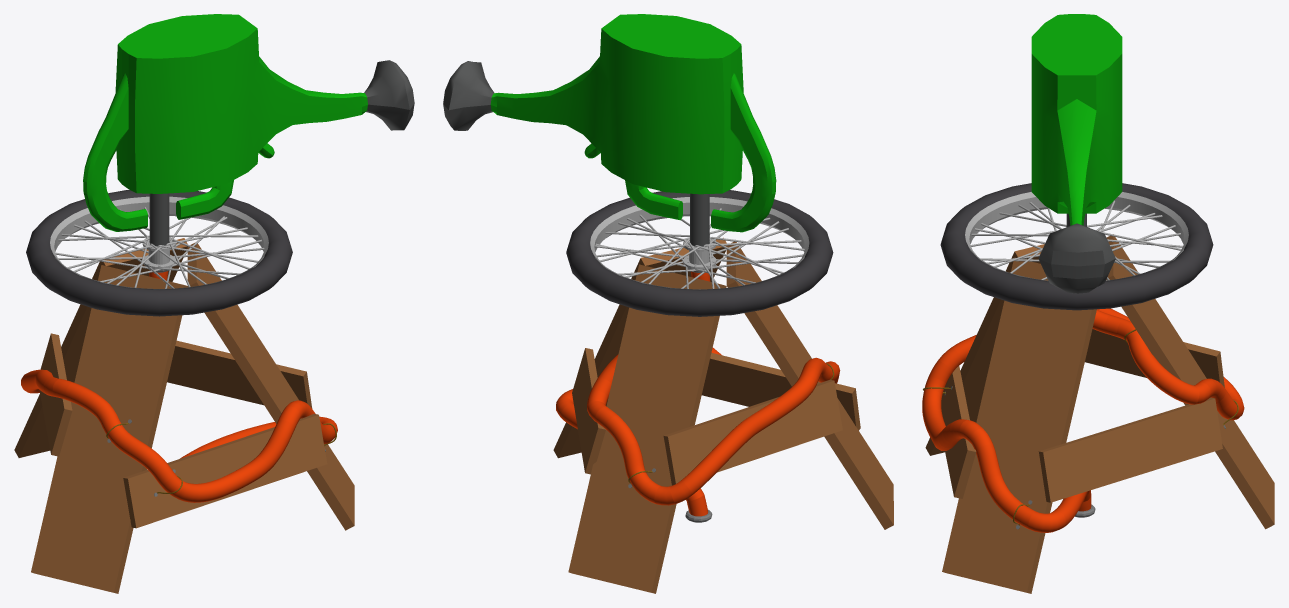
The model's file is Water_smooth.fbx.
3 views of the same model, side by side, from view 1: azimuth 30°, elevation 25°; view 2: azimuth 150°, elevation 25°; view 3: azimuth 270°, elevation 25° (orthographic). The views are drawn at different scales.
Parts seen in each view (by area): view 1: WateringCan, Foothold1, Wheel, Hosepipe, Sideplank1, Foothold3, Sideplank3, Foothold2, WheelRim, Sideplank2, SpikesTop1, SpikesTop2 (+3 smaller); view 2: WateringCan, Foothold2, Wheel, Hosepipe, Sideplank2, Foothold1, Sideplank1, WheelRim, Foothold3, Sideplank3, SpikesTop1, SpikesTop2 (+2 smaller); view 3: Foothold3, WateringCan, Wheel, Hosepipe, Sideplank3, Foothold2, WheelRim, Foothold1, Sideplank2, Sideplank1, SpikesTop1, SpikesTop2 (+2 smaller).
Part boxes in pixels (bbox=[...]): WateringCan: bbox=[83, 14, 414, 246]; Foothold1: bbox=[31, 265, 188, 593]; Wheel: bbox=[26, 190, 292, 316]; Hosepipe: bbox=[21, 271, 337, 502]; Sideplank1: bbox=[123, 413, 327, 528]; Foothold3: bbox=[187, 242, 354, 530]; Sideplank3: bbox=[167, 340, 312, 408]; Foothold2: bbox=[14, 238, 187, 457]; WheelRim: bbox=[50, 196, 268, 289]; Sideplank2: bbox=[39, 333, 72, 456]; SpikesTop1: bbox=[61, 209, 258, 287]; SpikesTop2: bbox=[58, 221, 258, 287]; WateringCan: bbox=[443, 14, 776, 246]; Foothold2: bbox=[568, 264, 726, 593]; Wheel: bbox=[566, 190, 833, 316]; Hosepipe: bbox=[556, 271, 840, 516]; Sideplank2: bbox=[663, 379, 842, 485]; Foothold1: bbox=[726, 241, 893, 529]; Sideplank1: bbox=[702, 352, 860, 430]; WheelRim: bbox=[590, 197, 809, 289]; Foothold3: bbox=[553, 237, 726, 458]; Sideplank3: bbox=[572, 348, 605, 474]; SpikesTop1: bbox=[596, 217, 804, 288]; SpikesTop2: bbox=[600, 219, 801, 288]; Foothold3: bbox=[942, 257, 1096, 593]; WateringCan: bbox=[1031, 14, 1122, 293]; Wheel: bbox=[940, 183, 1213, 310]; Hosepipe: bbox=[922, 308, 1244, 532]; Sideplank3: bbox=[1038, 397, 1222, 502]; Foothold2: bbox=[1106, 234, 1274, 529]; WheelRim: bbox=[965, 192, 1188, 281]; Foothold1: bbox=[925, 244, 1044, 455]; Sideplank2: bbox=[1085, 329, 1224, 387]; Sideplank1: bbox=[941, 366, 976, 498]; SpikesTop1: bbox=[971, 204, 1181, 275]; SpikesTop2: bbox=[970, 212, 1182, 274].
Size of the model in its own units: 448 by 495 by 328.
